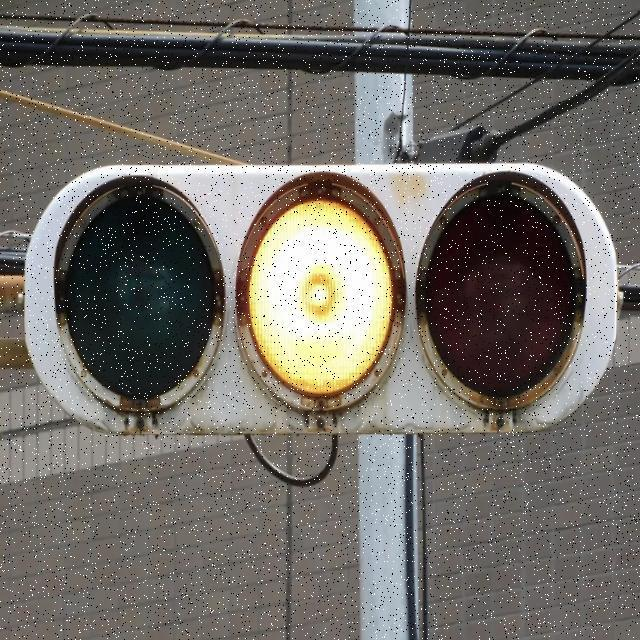yellow_light: (259, 206, 376, 420)
